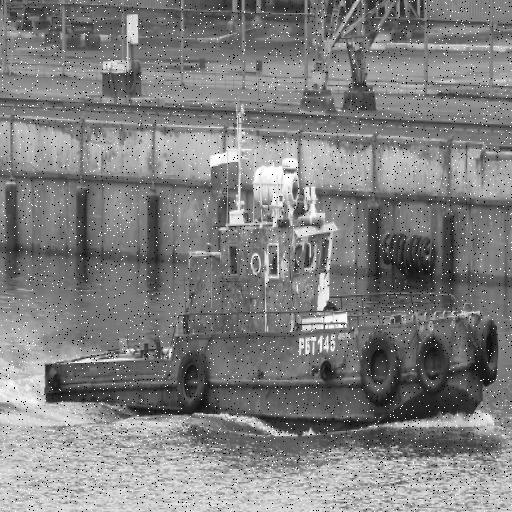tugboat: (41, 139, 503, 440)
